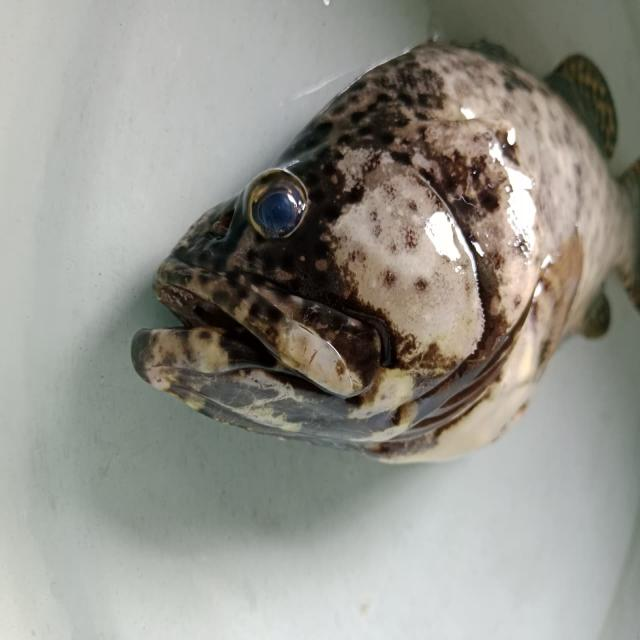ikan: (128, 21, 628, 494)
